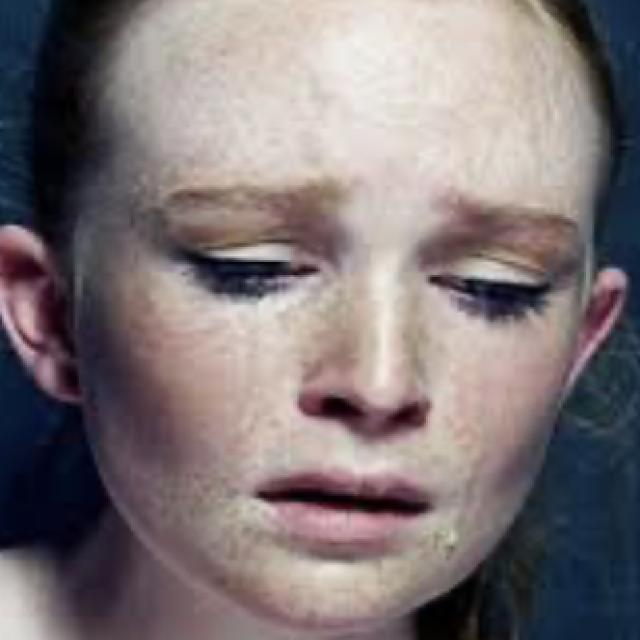sad: (43, 77, 605, 599)
